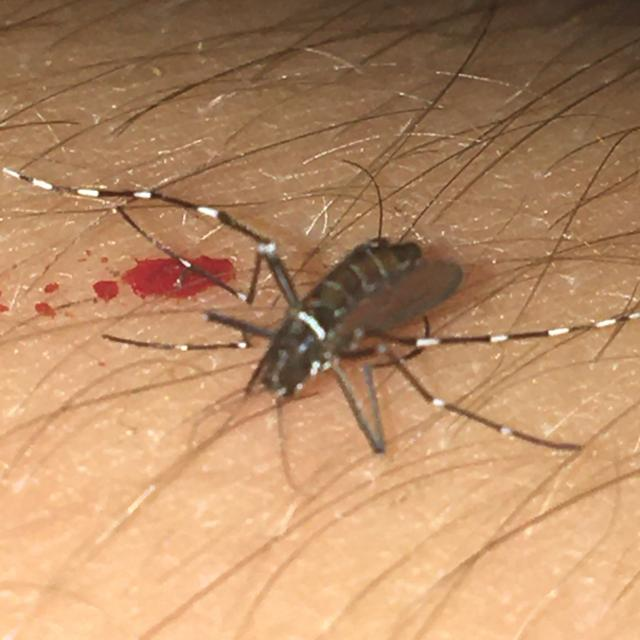albopictus: (73, 3, 550, 592)
